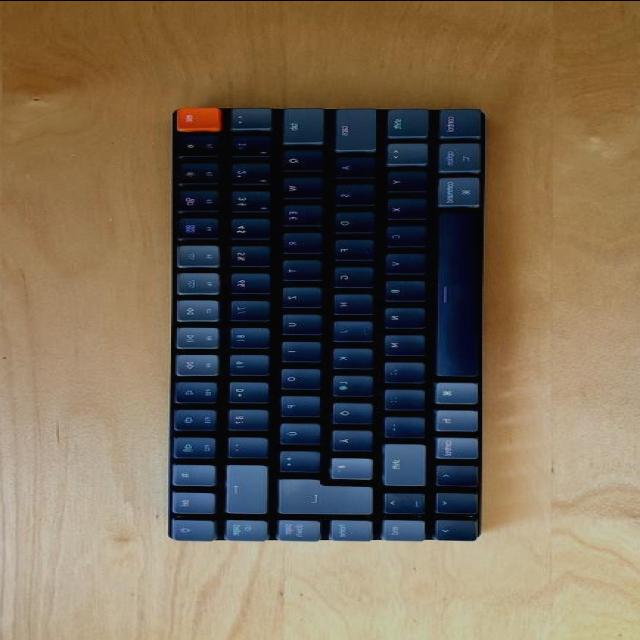0: (222, 379, 266, 401)
1: (225, 132, 269, 155)
2: (225, 160, 269, 183)
3: (224, 188, 267, 211)
4: (224, 216, 267, 238)
5: (224, 242, 267, 265)
6: (223, 269, 267, 292)
7: (223, 297, 267, 319)
8: (223, 324, 267, 346)
9: (223, 351, 266, 373)
a: (328, 154, 371, 176)
accent: (221, 434, 264, 456)
ae: (325, 427, 369, 449)
alt-left: (434, 142, 481, 174)
b: (378, 277, 421, 299)
c: (378, 223, 421, 245)
caret: (223, 105, 267, 127)
comma: (376, 358, 420, 380)
d: (328, 209, 371, 232)
del: (219, 461, 263, 511)
e: (276, 202, 319, 224)
enter: (270, 474, 369, 511)
f: (326, 236, 370, 258)
g: (326, 263, 369, 285)
h: (326, 290, 369, 312)
hash: (328, 456, 372, 478)
i: (274, 338, 316, 360)
j: (325, 317, 369, 339)
k: (325, 345, 369, 367)
keyboard: (161, 101, 491, 545)
l: (325, 372, 369, 394)
less: (379, 140, 423, 163)
m: (376, 331, 420, 353)
minus: (376, 413, 420, 435)
n: (376, 304, 420, 326)
o: (273, 365, 317, 387)
oe: (325, 399, 369, 422)
p: (273, 393, 316, 415)
plus: (275, 449, 319, 471)
point: (378, 386, 421, 408)
q: (276, 146, 319, 169)
r: (276, 229, 319, 251)
s: (328, 181, 371, 203)
shift-left: (379, 105, 425, 135)
shift-lock: (327, 106, 373, 148)
shift-right: (375, 440, 422, 484)
space: (428, 207, 476, 375)
ss: (221, 406, 264, 429)
strg-left: (431, 105, 477, 136)
strg-right: (428, 434, 474, 458)
t: (276, 256, 318, 278)
tab: (276, 105, 320, 141)
u: (274, 311, 317, 333)
ue: (273, 420, 317, 442)
v: (378, 250, 421, 272)
w: (276, 174, 319, 196)
x: (379, 196, 422, 218)
y: (379, 168, 423, 190)
z: (274, 283, 317, 305)
